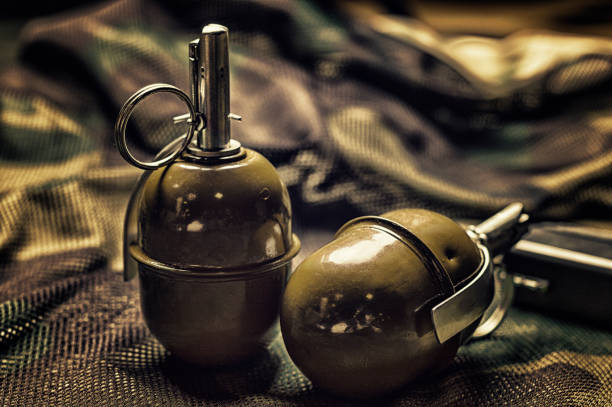e1: (114, 24, 288, 375), (287, 197, 535, 380)
